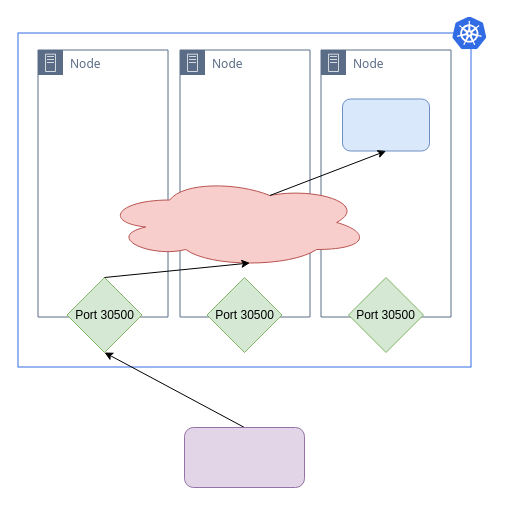
The diagram is 515 pixels wide and 505 high, and some of its shapes have lost their labels. Each missing label, with the centre of its shape:
"Client" belongs at point 244,457.
"Pod" belongs at point 386,124.
"Service NodePort" belongs at point 236,222.
